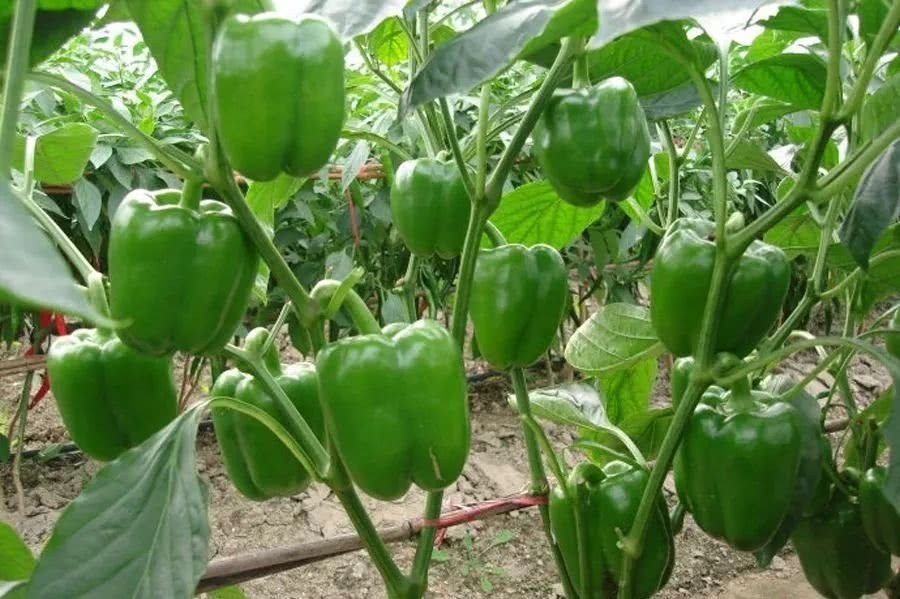fruit: (312, 318, 472, 500), (97, 188, 251, 359), (210, 10, 346, 187), (675, 380, 801, 557), (650, 218, 793, 359), (48, 326, 178, 464), (546, 459, 674, 599), (210, 359, 325, 504), (532, 78, 653, 208), (793, 466, 892, 599), (472, 244, 569, 373), (389, 154, 476, 261), (856, 463, 900, 555)
pedicle: (721, 394, 768, 414), (79, 333, 123, 351)
